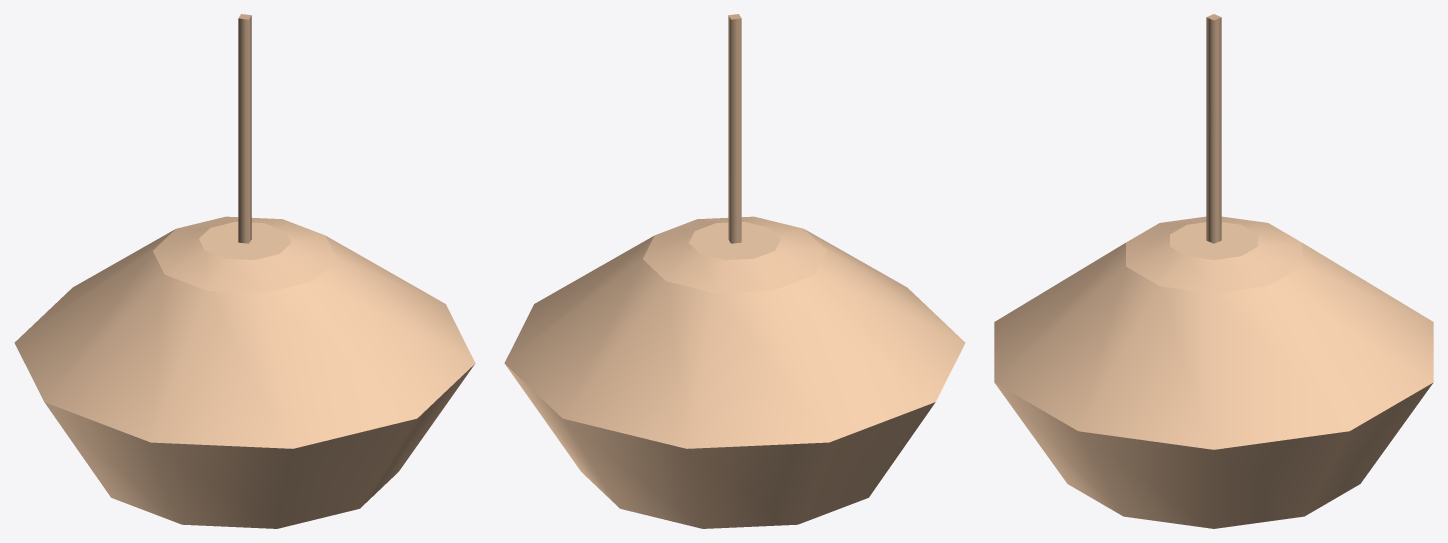
The model's file is pendantRattan.glb.
3 renders of one model, left to right at view 1: azimuth 30°, elevation 25°; view 2: azimuth 150°, elevation 25°; view 3: azimuth 270°, elevation 25°, orthographic.
Visible parts, largest first — view 1: pendantRattan; view 2: pendantRattan; view 3: pendantRattan.
Part boxes in pixels (x1,y1,x2,y2): pendantRattan: (14,14,475,528); pendantRattan: (504,14,965,528); pendantRattan: (994,14,1433,528).
Size of the model in its own units: 0.3 by 0.35 by 0.2853.
